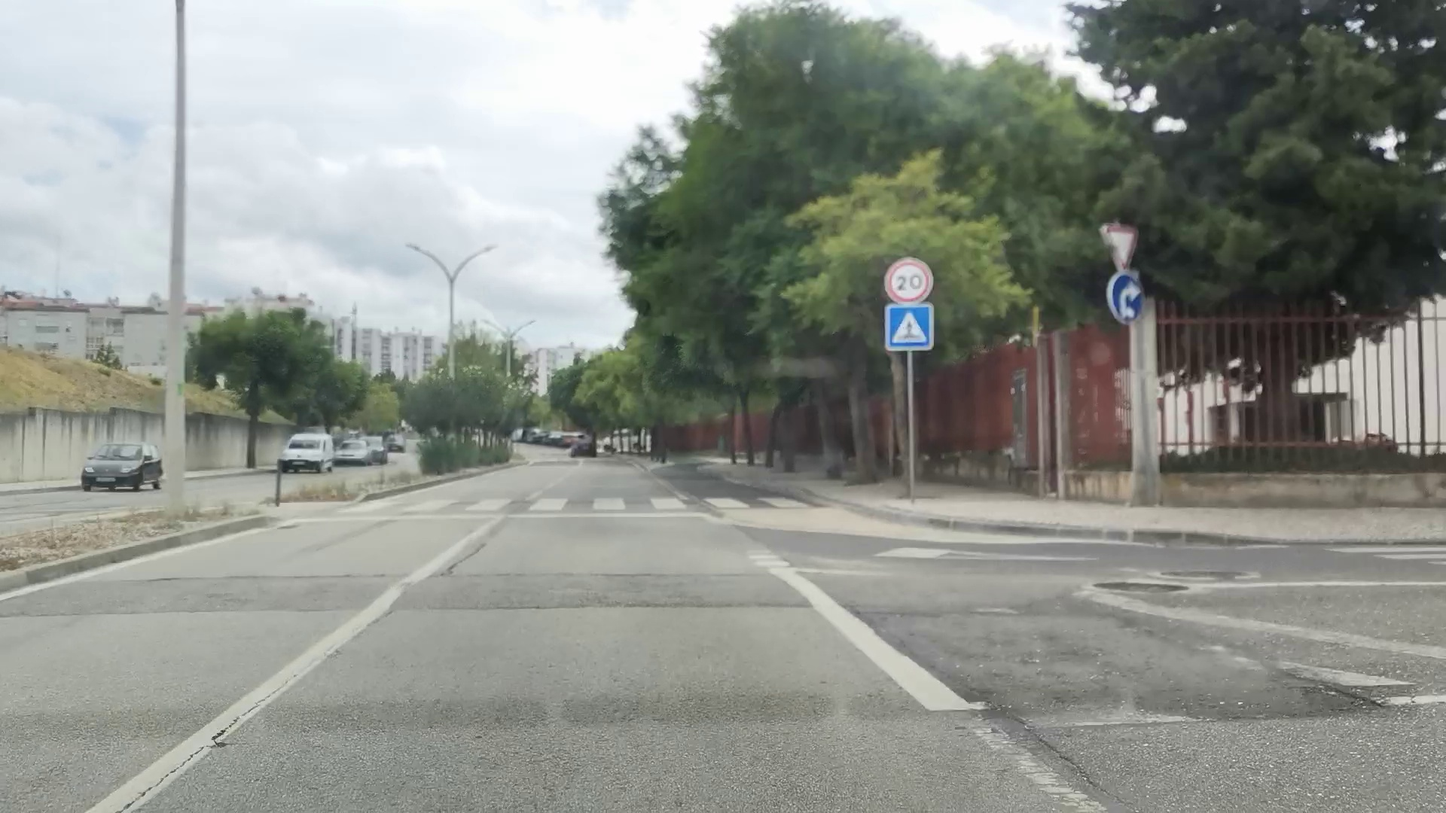Stairs: (343, 494, 812, 509)
